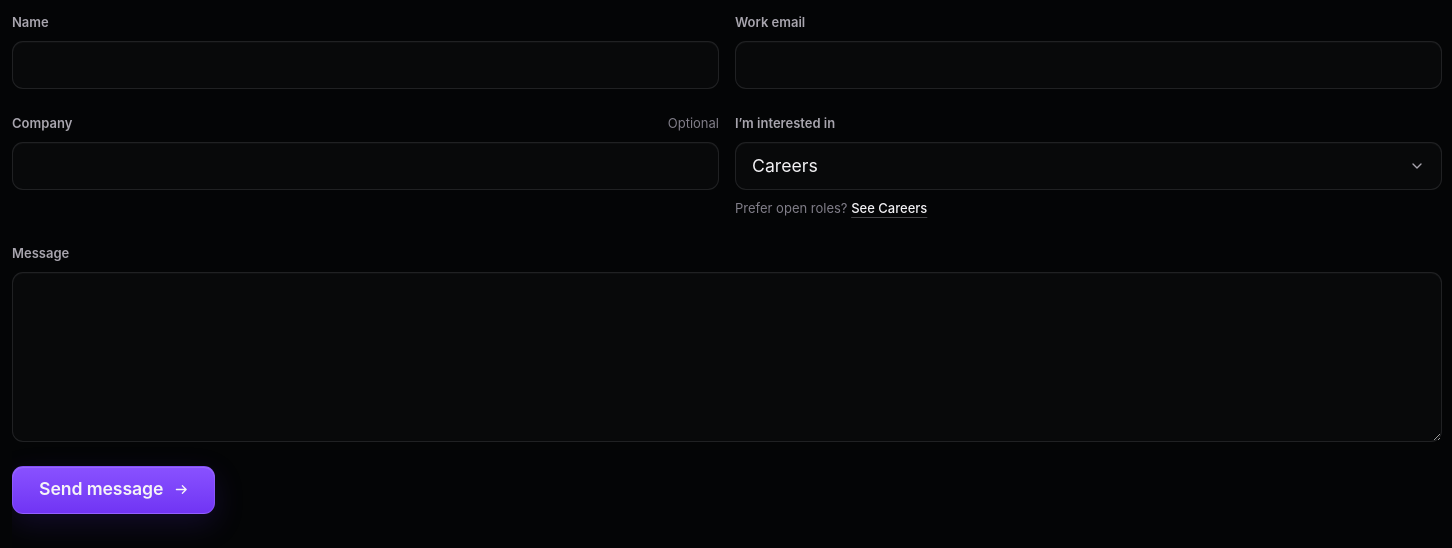
ContactForm › uses an accessible custom select and honours a preselected topic
The image size is (1452, 548).
Click the dropdown named "I’m interested in" at (785, 165), box [735,142,1442,190]
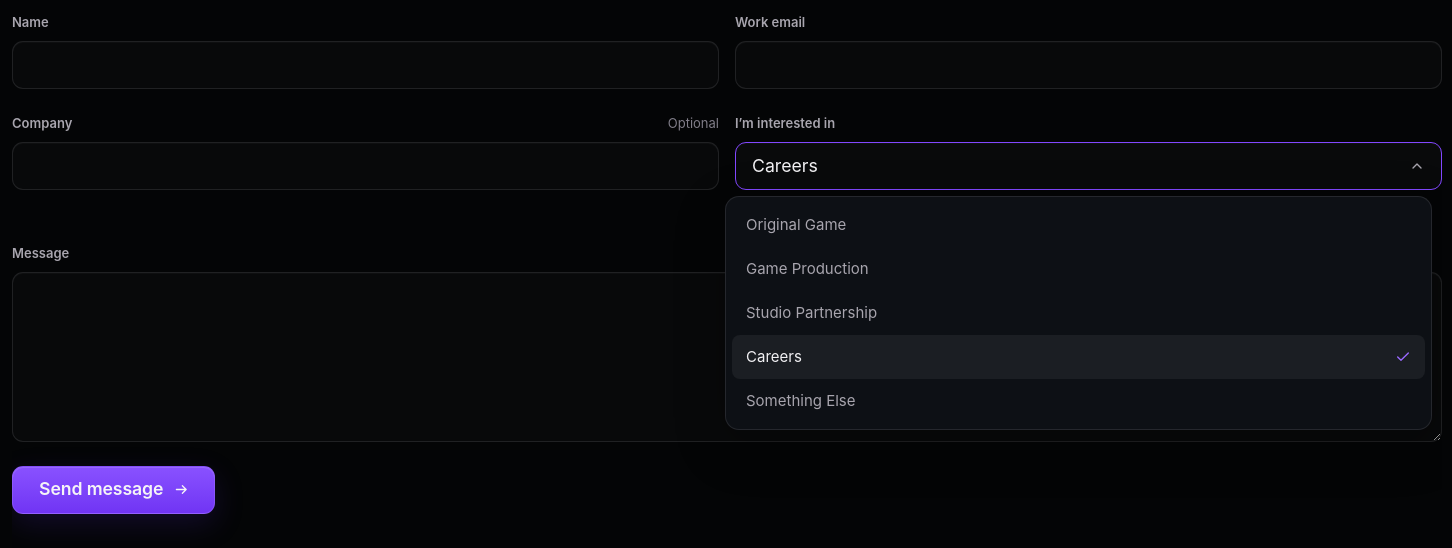
Click the option "Game Production" at (807, 268), box [746,259,869,278]
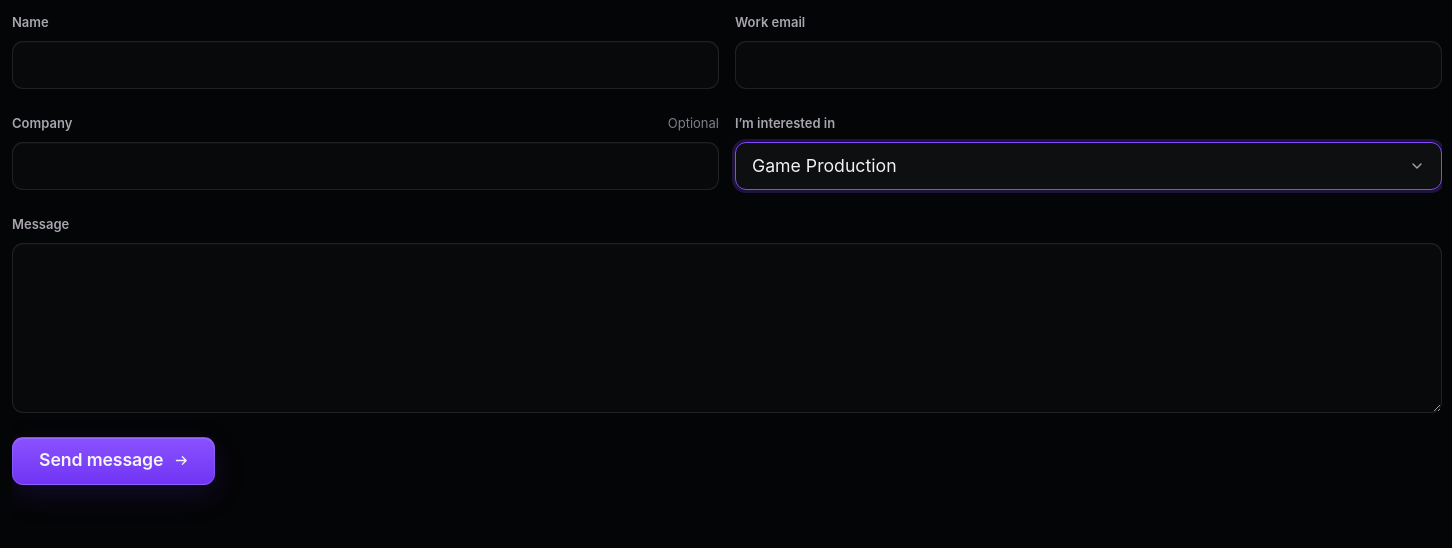
Expected: the dropdown named "I’m interested in" reads "Game Production", [735,142,1442,190]
